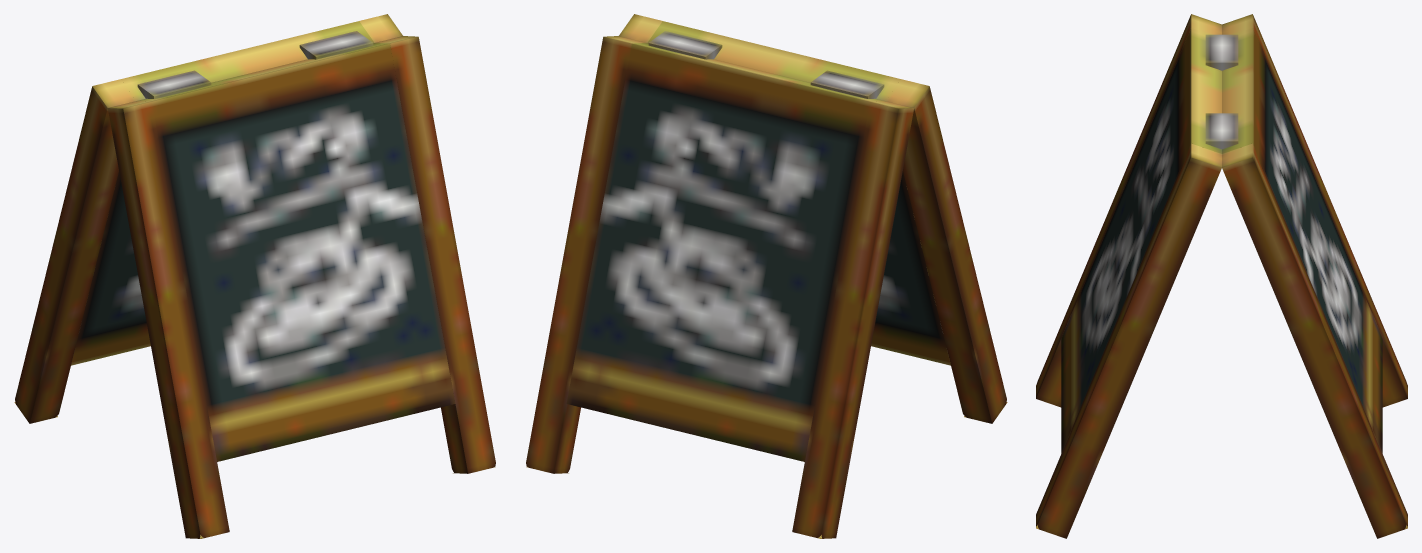
The model's file is Poly_SF_Outside_B_Signboard_03.obj.
The picture shows the model from 3 angles, left to right: view 1: azimuth 30°, elevation 25°; view 2: azimuth 150°, elevation 25°; view 3: azimuth 270°, elevation 25°; orthographic projection.
Visible parts, largest first — view 1: Cube.001, Cube.004, Cube.002; view 2: Cube.001, Cube.004, Cube.002; view 3: Cube.004, Cube.001, Cube.002.
Part boxes in pixels (<box>): Cube.001: <box>71,21,455,461</box>; Cube.004: <box>14,14,495,538</box>; Cube.002: <box>137,31,373,98</box>; Cube.001: <box>566,21,950,461</box>; Cube.004: <box>526,14,1007,538</box>; Cube.002: <box>648,31,884,98</box>; Cube.004: <box>1036,14,1407,538</box>; Cube.001: <box>1061,28,1382,453</box>; Cube.002: <box>1205,34,1238,149</box>.
Size of the model in its own units: 0.62 by 0.7693 by 0.6797.
1 material, 1 textured.
